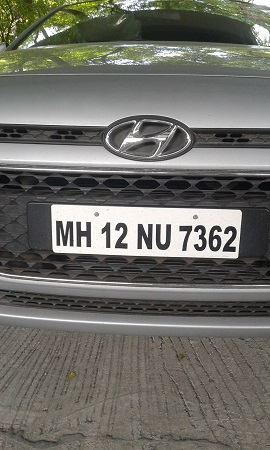licenseplate: (47, 201, 244, 264)
